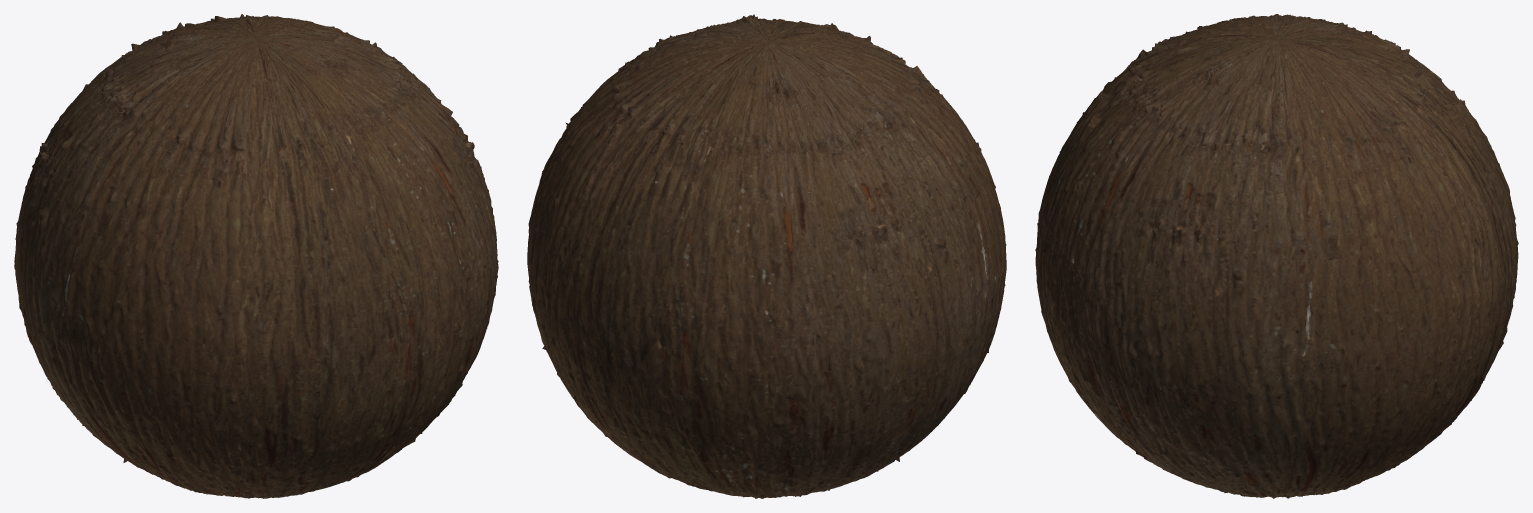
File: japanese_cedar_bark_1k.gltf
The picture shows the model from 3 angles, left to right: view 1: azimuth 30°, elevation 25°; view 2: azimuth 150°, elevation 25°; view 3: azimuth 270°, elevation 25°; orthographic projection.
Visible parts, largest first — view 1: sphere_gltf; view 2: sphere_gltf; view 3: sphere_gltf.
Part boxes in pixels (box(x1,y1,x2,y2)): sphere_gltf: box(14, 14, 498, 498); sphere_gltf: box(527, 14, 1006, 498); sphere_gltf: box(1035, 14, 1518, 498).
Size of the model in its own units: 1.99 by 1.99 by 1.99.
1 material, 1 textured.
